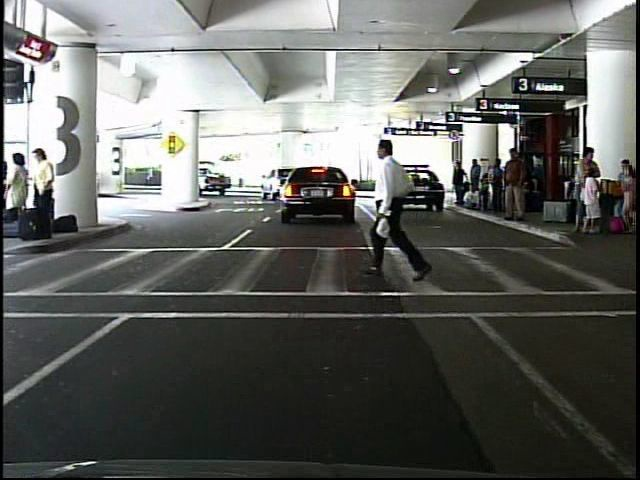person: (364, 133, 432, 290), (6, 150, 37, 238), (32, 146, 60, 243), (501, 145, 531, 225), (450, 160, 466, 206), (144, 163, 156, 189)
